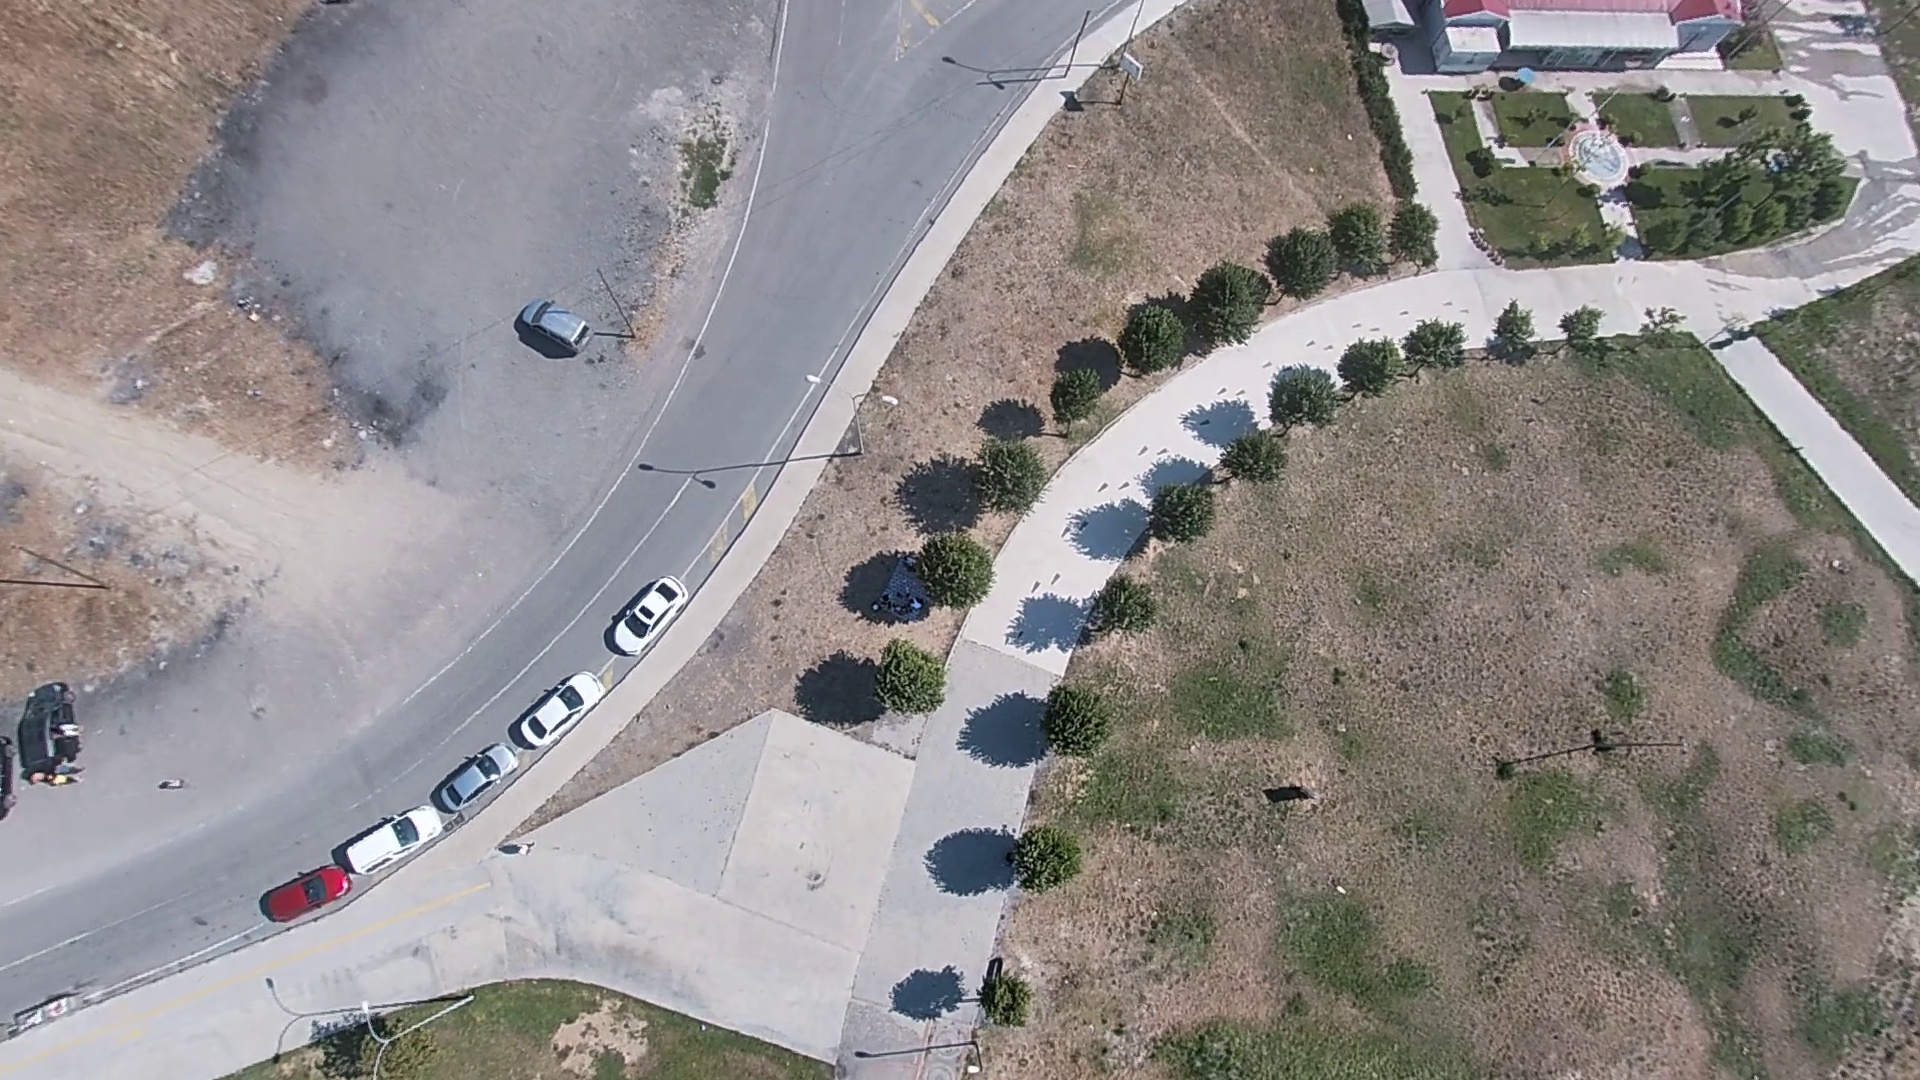arac: (436, 729, 524, 829), (345, 793, 439, 881), (518, 665, 605, 758), (260, 847, 360, 926), (603, 568, 683, 655), (510, 291, 593, 353)
